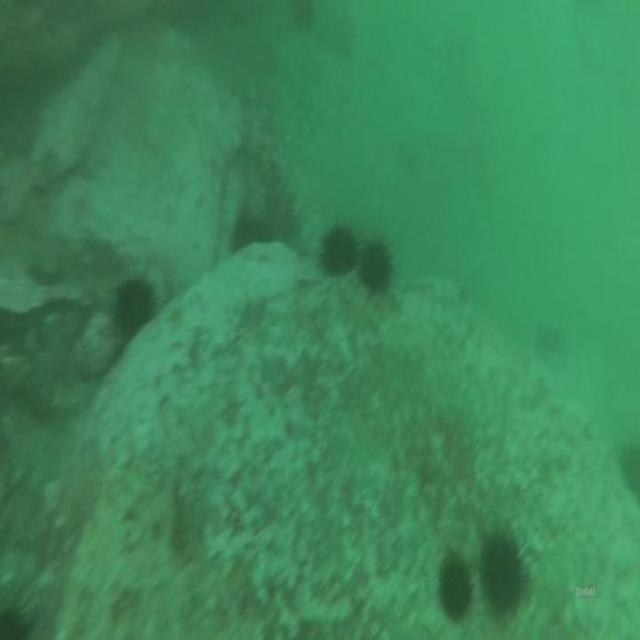echinus: (476, 521, 529, 626), (433, 542, 476, 626), (109, 272, 158, 340), (356, 229, 396, 302), (316, 220, 362, 280), (228, 209, 280, 256), (618, 434, 640, 502), (289, 0, 318, 30)
